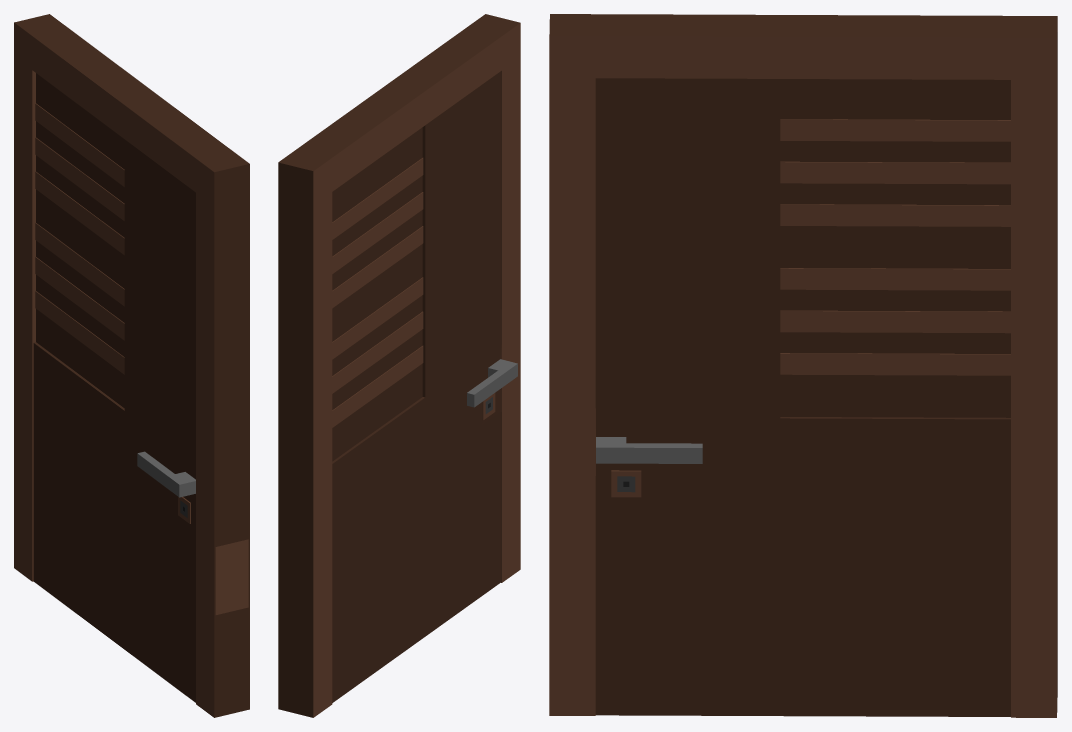
Rendered from LittleDoor.fbx.
3 renders of one model, left to right at view 1: azimuth 30°, elevation 25°; view 2: azimuth 150°, elevation 25°; view 3: azimuth 270°, elevation 25°, orthographic. The views are drawn at different scales.
Parts seen in each view (by area): view 1: Cube.003; view 2: Cube.003; view 3: Cube.003.
Boxes of the visible parts, left/top/right/bottom form: Cube.003: left=14, top=14, right=249, bottom=717; Cube.003: left=278, top=14, right=520, bottom=717; Cube.003: left=549, top=14, right=1057, bottom=717.
Size of the model in its own units: 40.82 by 310 by 209.
1 material, 1 textured.
